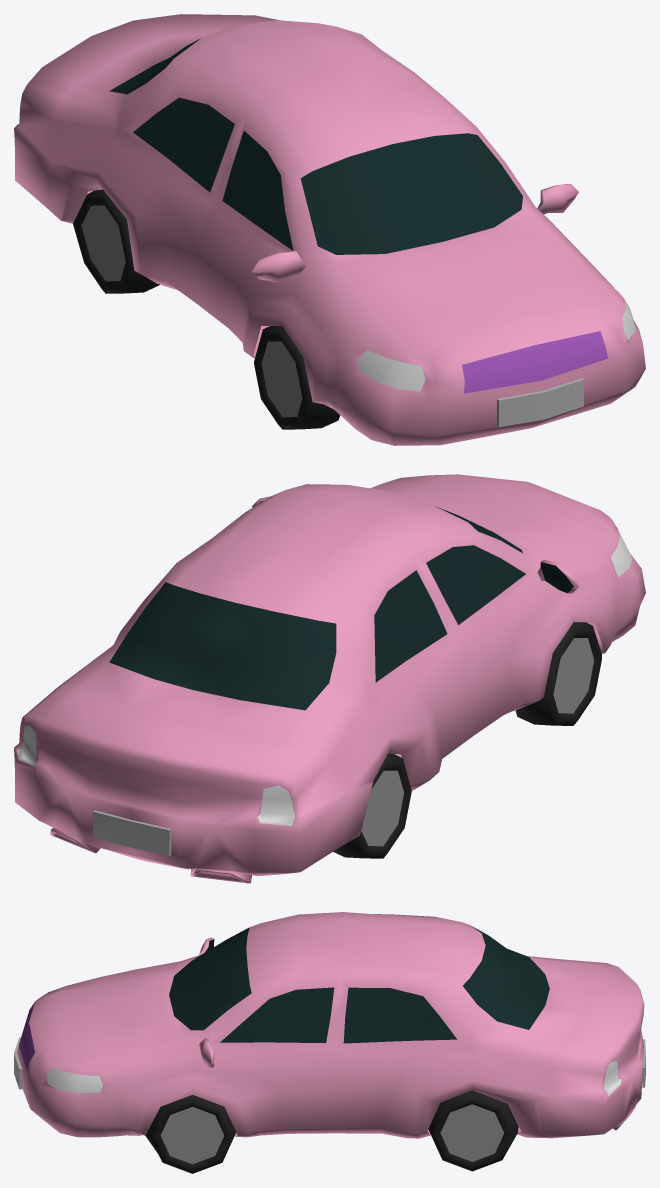
The model's file is HCar.fbx.
3 renders of one model, top to bottom at view 1: azimuth 30°, elevation 25°; view 2: azimuth 150°, elevation 25°; view 3: azimuth 270°, elevation 25°, orthographic. The views are drawn at different scales.
Visible parts, largest first — view 1: Cube.017; view 2: Cube.017; view 3: Cube.017.
Boxes of the visible parts, x1,y1,x2,y2 form: Cube.017: (14, 14, 645, 445); Cube.017: (14, 474, 645, 883); Cube.017: (14, 912, 645, 1173).
Bounding box in the file's own units: 294 × 215 × 643.
